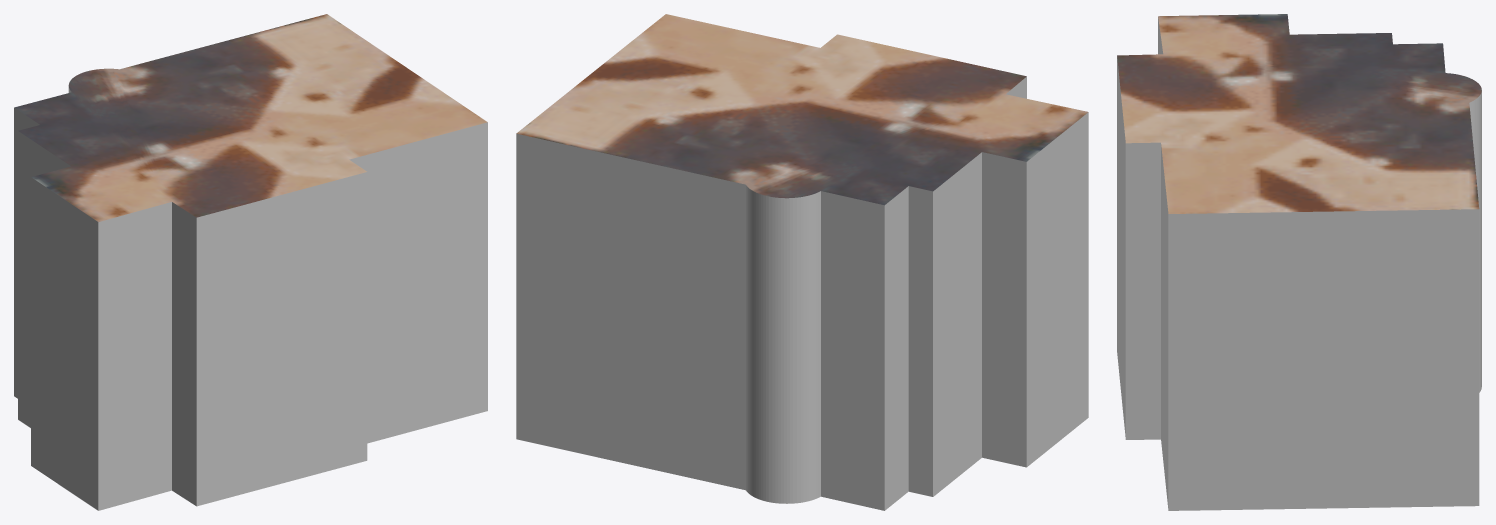
Rendered from DEBW_0010007TxeE.gltf.
3 renders of one model, left to right at view 1: azimuth 30°, elevation 25°; view 2: azimuth 150°, elevation 25°; view 3: azimuth 270°, elevation 25°, orthographic. The views are drawn at different scales.
Visible parts, largest first — view 1: Z_UP; view 2: Z_UP; view 3: Z_UP.
Part boxes in pixels (x1=…): Z_UP: x1=14, y1=14, x2=487, y2=510; Z_UP: x1=516, y1=14, x2=1088, y2=510; Z_UP: x1=1117, y1=14, x2=1481, y2=510.
Bounding box in the file's own units: 22.88 × 15.83 × 17.62.
Materials: 2 (1 with a texture image).
